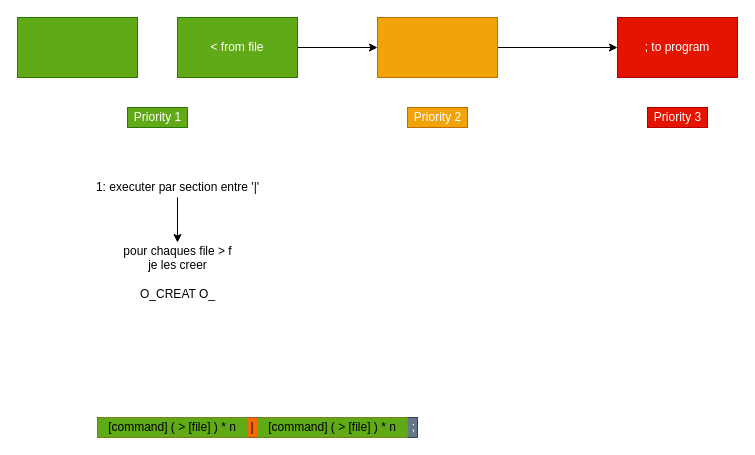
Some shapes in this 755 by 455 pixel diagram are drawn without their labels. Here are the shapes that lost their labels. From the top down, the centre of each, then its label:
At (77,47): "> to file".
At (437,47): "| to program".
